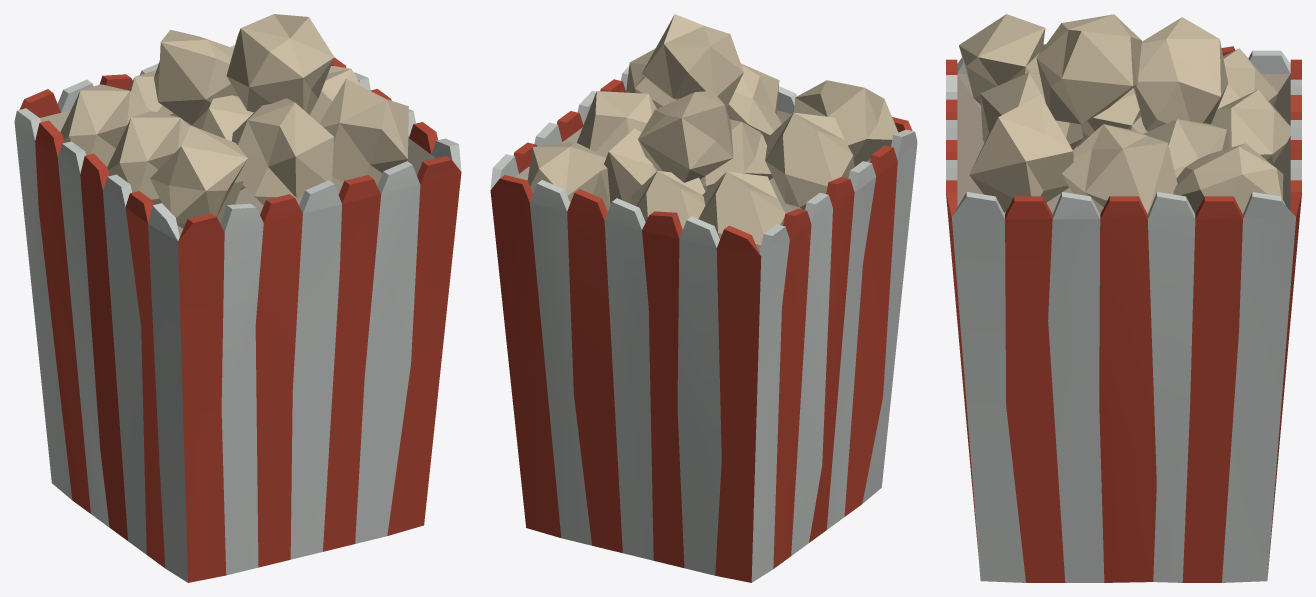
File: cinema.glb
3 views of the same model, side by side, from view 1: azimuth 30°, elevation 25°; view 2: azimuth 150°, elevation 25°; view 3: azimuth 270°, elevation 25° (orthographic). The views are drawn at different scales.
Visible parts, largest first — view 1: SM_Prop_LargeSign_Popcorn_02; view 2: SM_Prop_LargeSign_Popcorn_02; view 3: SM_Prop_LargeSign_Popcorn_02.
Boxes of the visible parts, bbox=[...] form: SM_Prop_LargeSign_Popcorn_02: bbox=[14, 14, 461, 582]; SM_Prop_LargeSign_Popcorn_02: bbox=[490, 14, 917, 582]; SM_Prop_LargeSign_Popcorn_02: bbox=[946, 14, 1301, 582].
Size of the model in its own units: 0.3065 by 0.4938 by 0.3065.
1 material, 1 textured.
